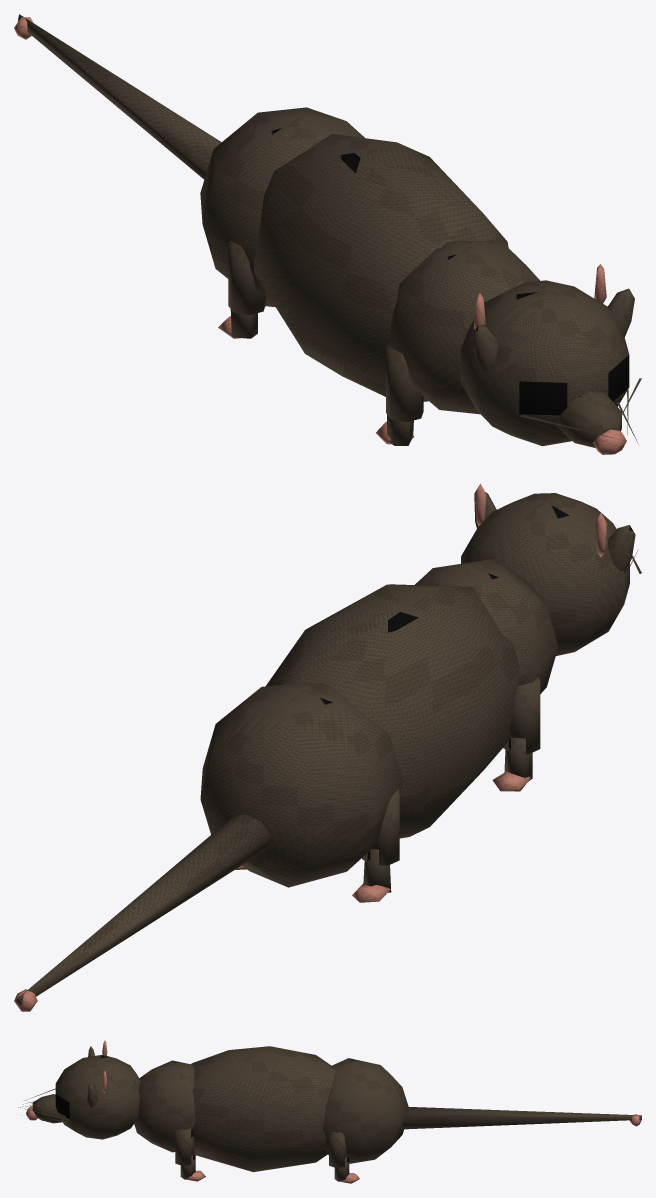
The model's file is house-mouse.glb.
3 views of the same model, one above another, from view 1: azimuth 30°, elevation 25°; view 2: azimuth 150°, elevation 25°; view 3: azimuth 270°, elevation 25° (orthographic). The views are drawn at different scales.
Visible parts, largest first — view 1: Body, Head, Tail, LegFL, LegBL; view 2: Body, Head, Tail, LegFL, LegBL; view 3: Body, Head, Tail, LegFR, LegBR.
Boxes of the visible parts, x1,y1,x2,y2 form: Body: (200, 107, 539, 414); Head: (460, 264, 641, 454); Tail: (14, 14, 221, 179); LegFL: (376, 342, 423, 445); LegBL: (218, 240, 265, 338); Body: (200, 558, 558, 887); Head: (461, 483, 641, 655); Tail: (14, 814, 271, 1011); LegFL: (492, 676, 540, 791); LegBL: (352, 789, 399, 902); Body: (134, 1046, 408, 1172); Head: (18, 1040, 140, 1139); Tail: (402, 1107, 641, 1129); LegFR: (175, 1128, 205, 1181); LegBR: (329, 1132, 359, 1183).
Bounding box in the file's own units: 0.0878 × 0.0993 × 0.4898.
2 materials, 2 textured.
